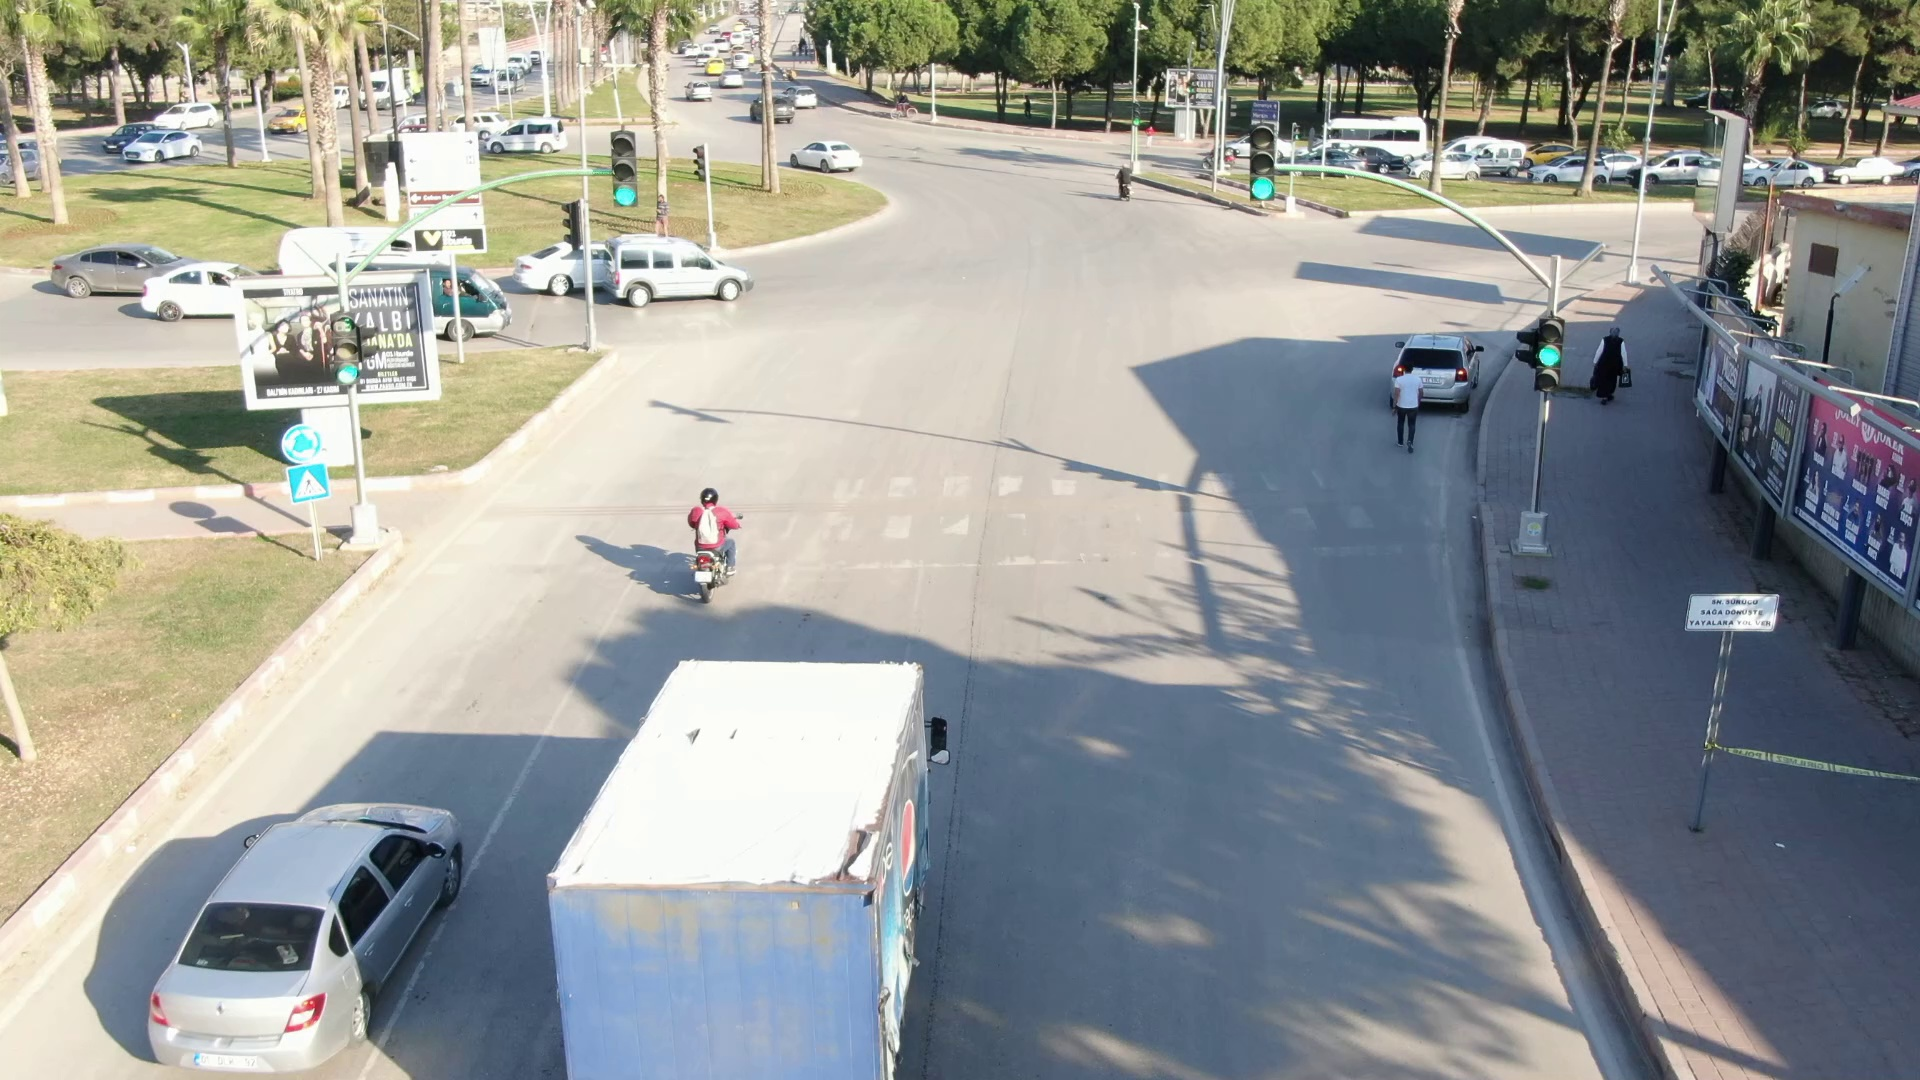car: (127, 782, 488, 1073), (597, 226, 761, 314), (42, 240, 213, 323), (786, 129, 874, 181), (481, 114, 574, 159), (119, 125, 210, 163), (680, 75, 719, 105)
person: (680, 481, 755, 581), (1586, 318, 1642, 414), (1385, 357, 1436, 456)
